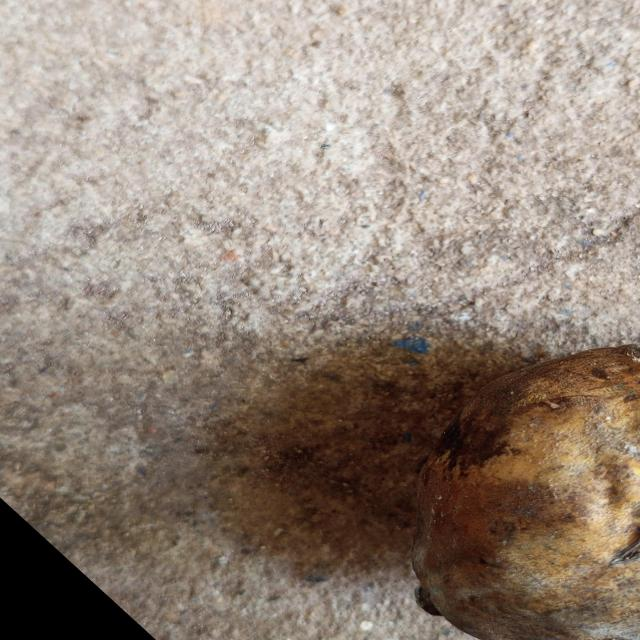damaged: (413, 344, 640, 640)
